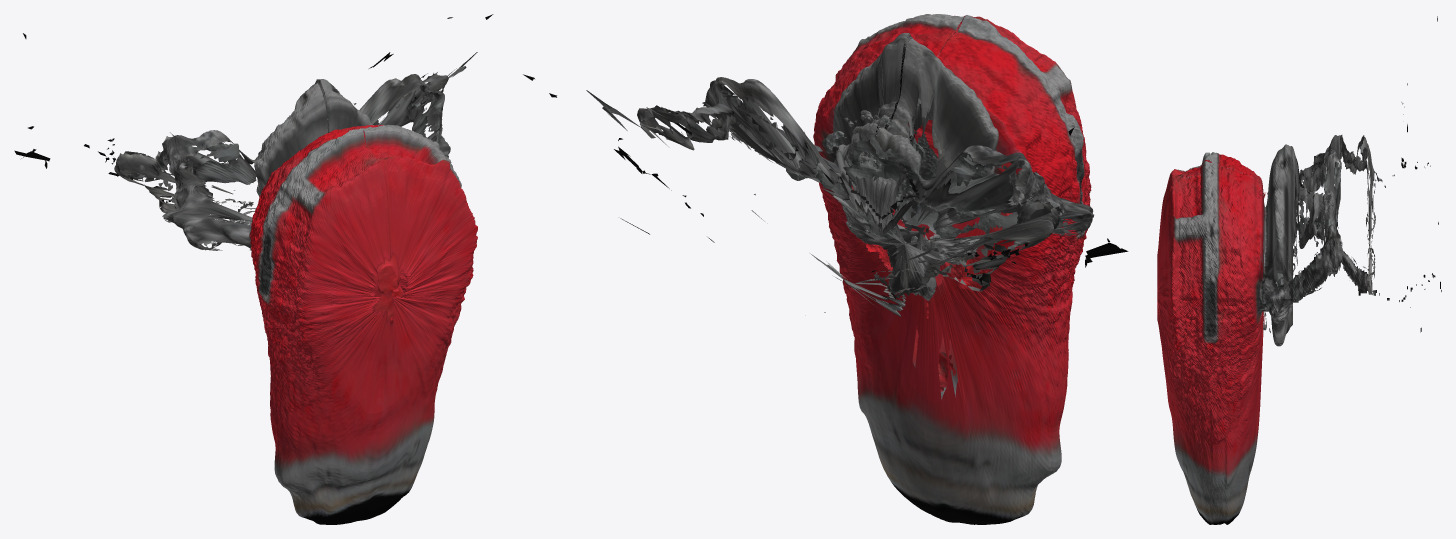
Rendered from mesh_inpaint.glb.
The picture shows the model from 3 angles, left to right: view 1: azimuth 30°, elevation 25°; view 2: azimuth 150°, elevation 25°; view 3: azimuth 270°, elevation 25°; orthographic projection. The views are drawn at different scales.
Parts seen in each view (by area): view 1: ipn, fill; view 2: ipn, fill; view 3: ipn, fill.
Boxes of the visible parts, x1,y1,x2,y2 form: ipn: (14, 14, 493, 524); fill: (109, 73, 432, 440); ipn: (523, 14, 1128, 524); fill: (661, 91, 1088, 391); ipn: (1157, 16, 1441, 524); fill: (1261, 137, 1417, 332).
Size of the model in its own units: 1.62 by 1.46 by 0.9158.
Materials: 2 (1 with a texture image).
